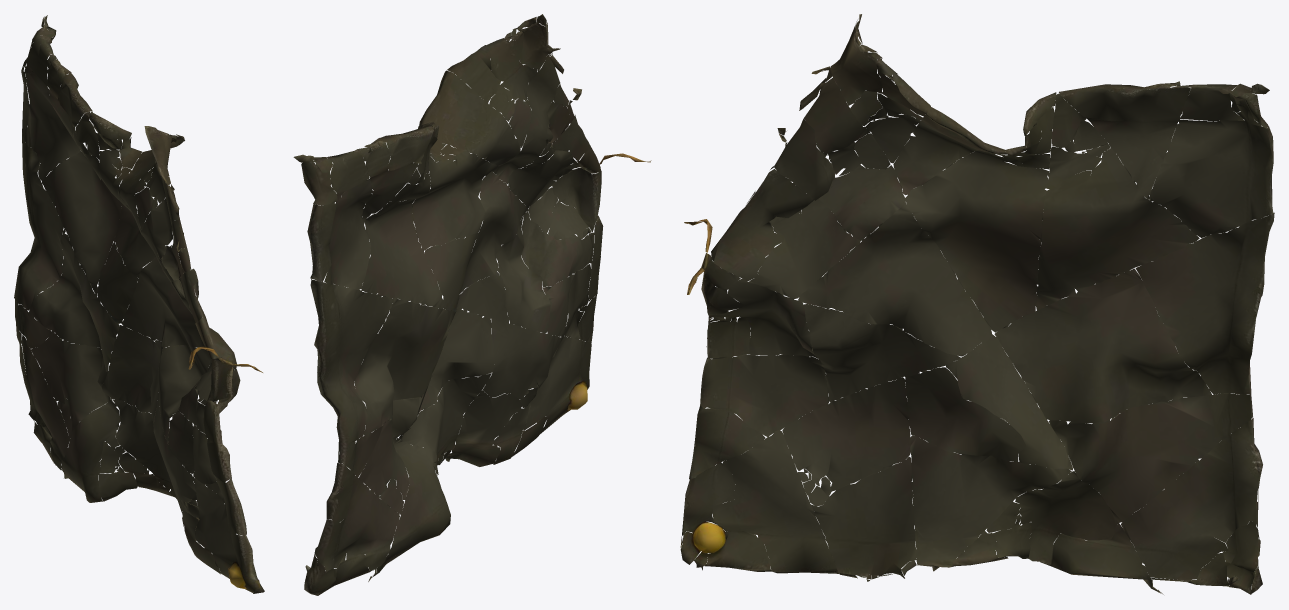
File: canvas_scrap.glb
3 views of the same model, side by side, from view 1: azimuth 30°, elevation 25°; view 2: azimuth 150°, elevation 25°; view 3: azimuth 270°, elevation 25° (orthographic). The views are drawn at different scales.
Parts seen in each view (by area): view 1: tripo_node_56199f5e-beae-43a8-9349-a7b560fae645; view 2: tripo_node_56199f5e-beae-43a8-9349-a7b560fae645; view 3: tripo_node_56199f5e-beae-43a8-9349-a7b560fae645.
Part boxes in pixels (x1,y1,x2,y2): tripo_node_56199f5e-beae-43a8-9349-a7b560fae645: (14, 15, 264, 593); tripo_node_56199f5e-beae-43a8-9349-a7b560fae645: (293, 14, 651, 595); tripo_node_56199f5e-beae-43a8-9349-a7b560fae645: (680, 14, 1274, 594).
Size of the model in its own units: 0.2419 by 0.9989 by 0.9649.
Materials: 1 (1 with a texture image).
